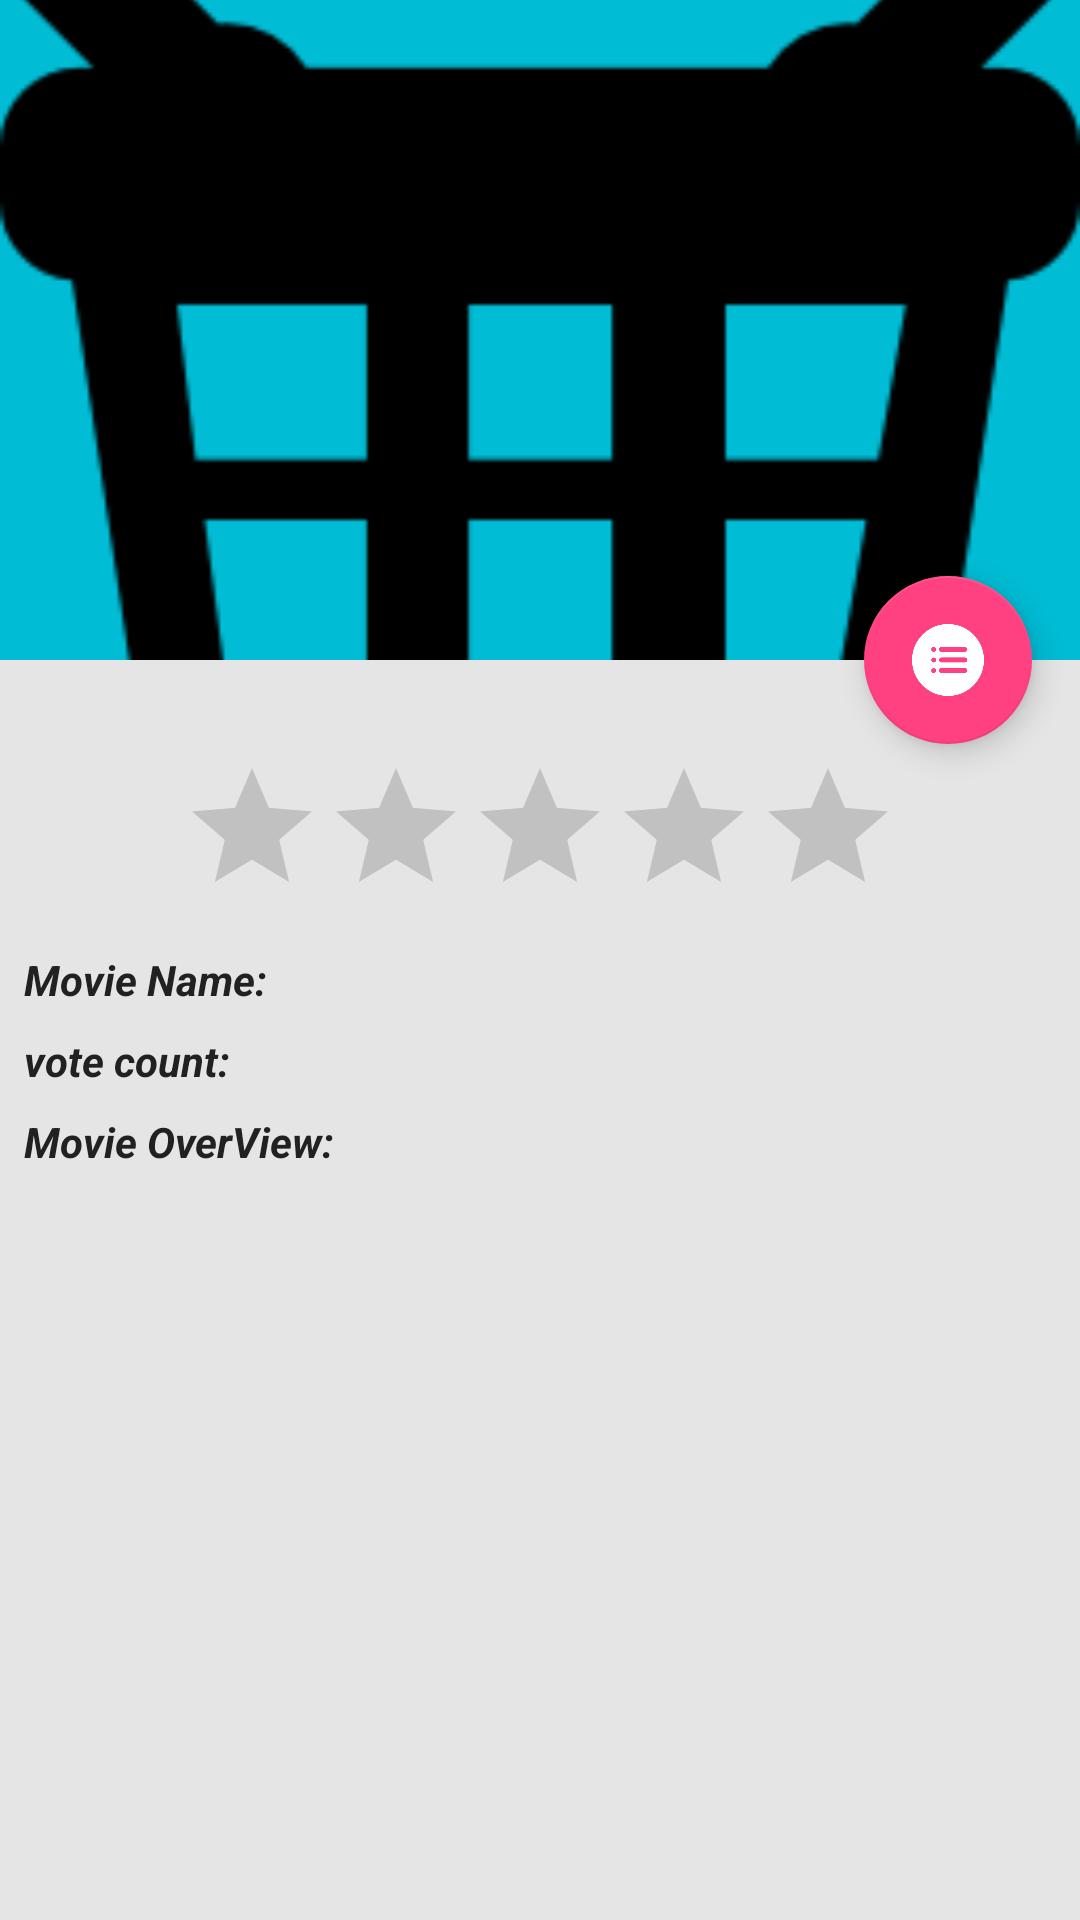

Icons on this 1080w x 1920h Android screen, each with the point to tap as (x=x, y=y):
product list: (x=948, y=660)
